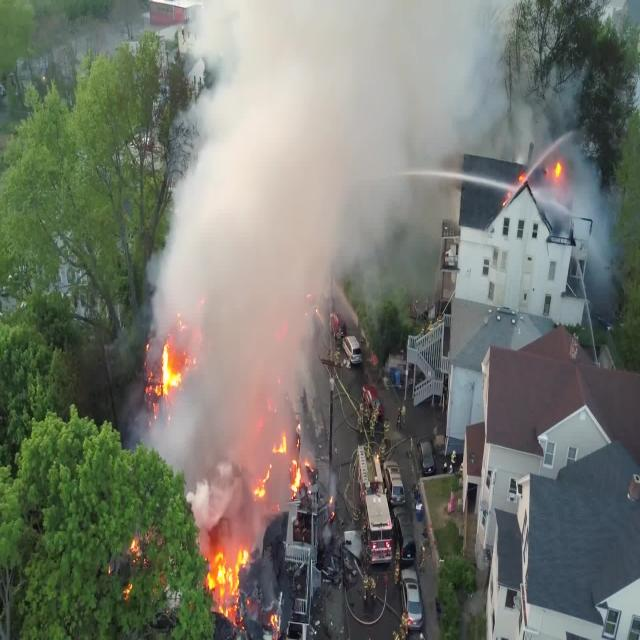Fire: (249, 434, 309, 502), (202, 545, 254, 621), (144, 334, 184, 424), (548, 164, 563, 181), (498, 191, 513, 206), (516, 170, 526, 182)
Smoke: (138, 0, 502, 547), (512, 76, 610, 283)
